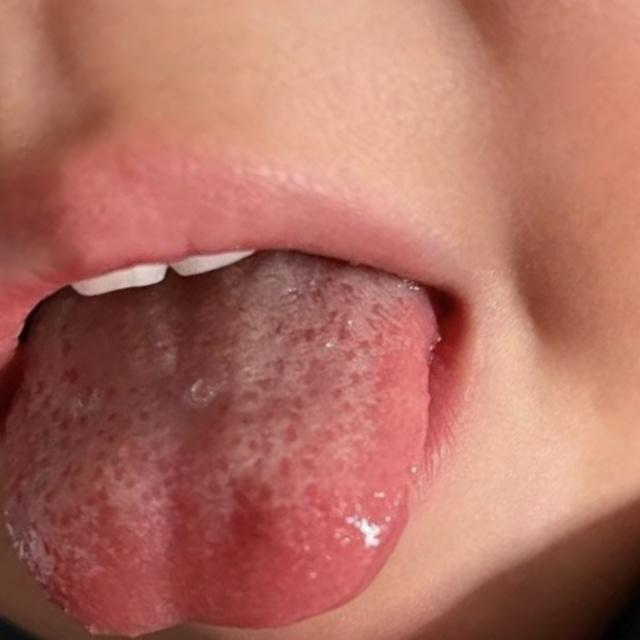hongdianshe: (39, 413, 125, 523)
huangtaishe: (1, 250, 438, 640)
huataishe: (232, 488, 410, 605)
